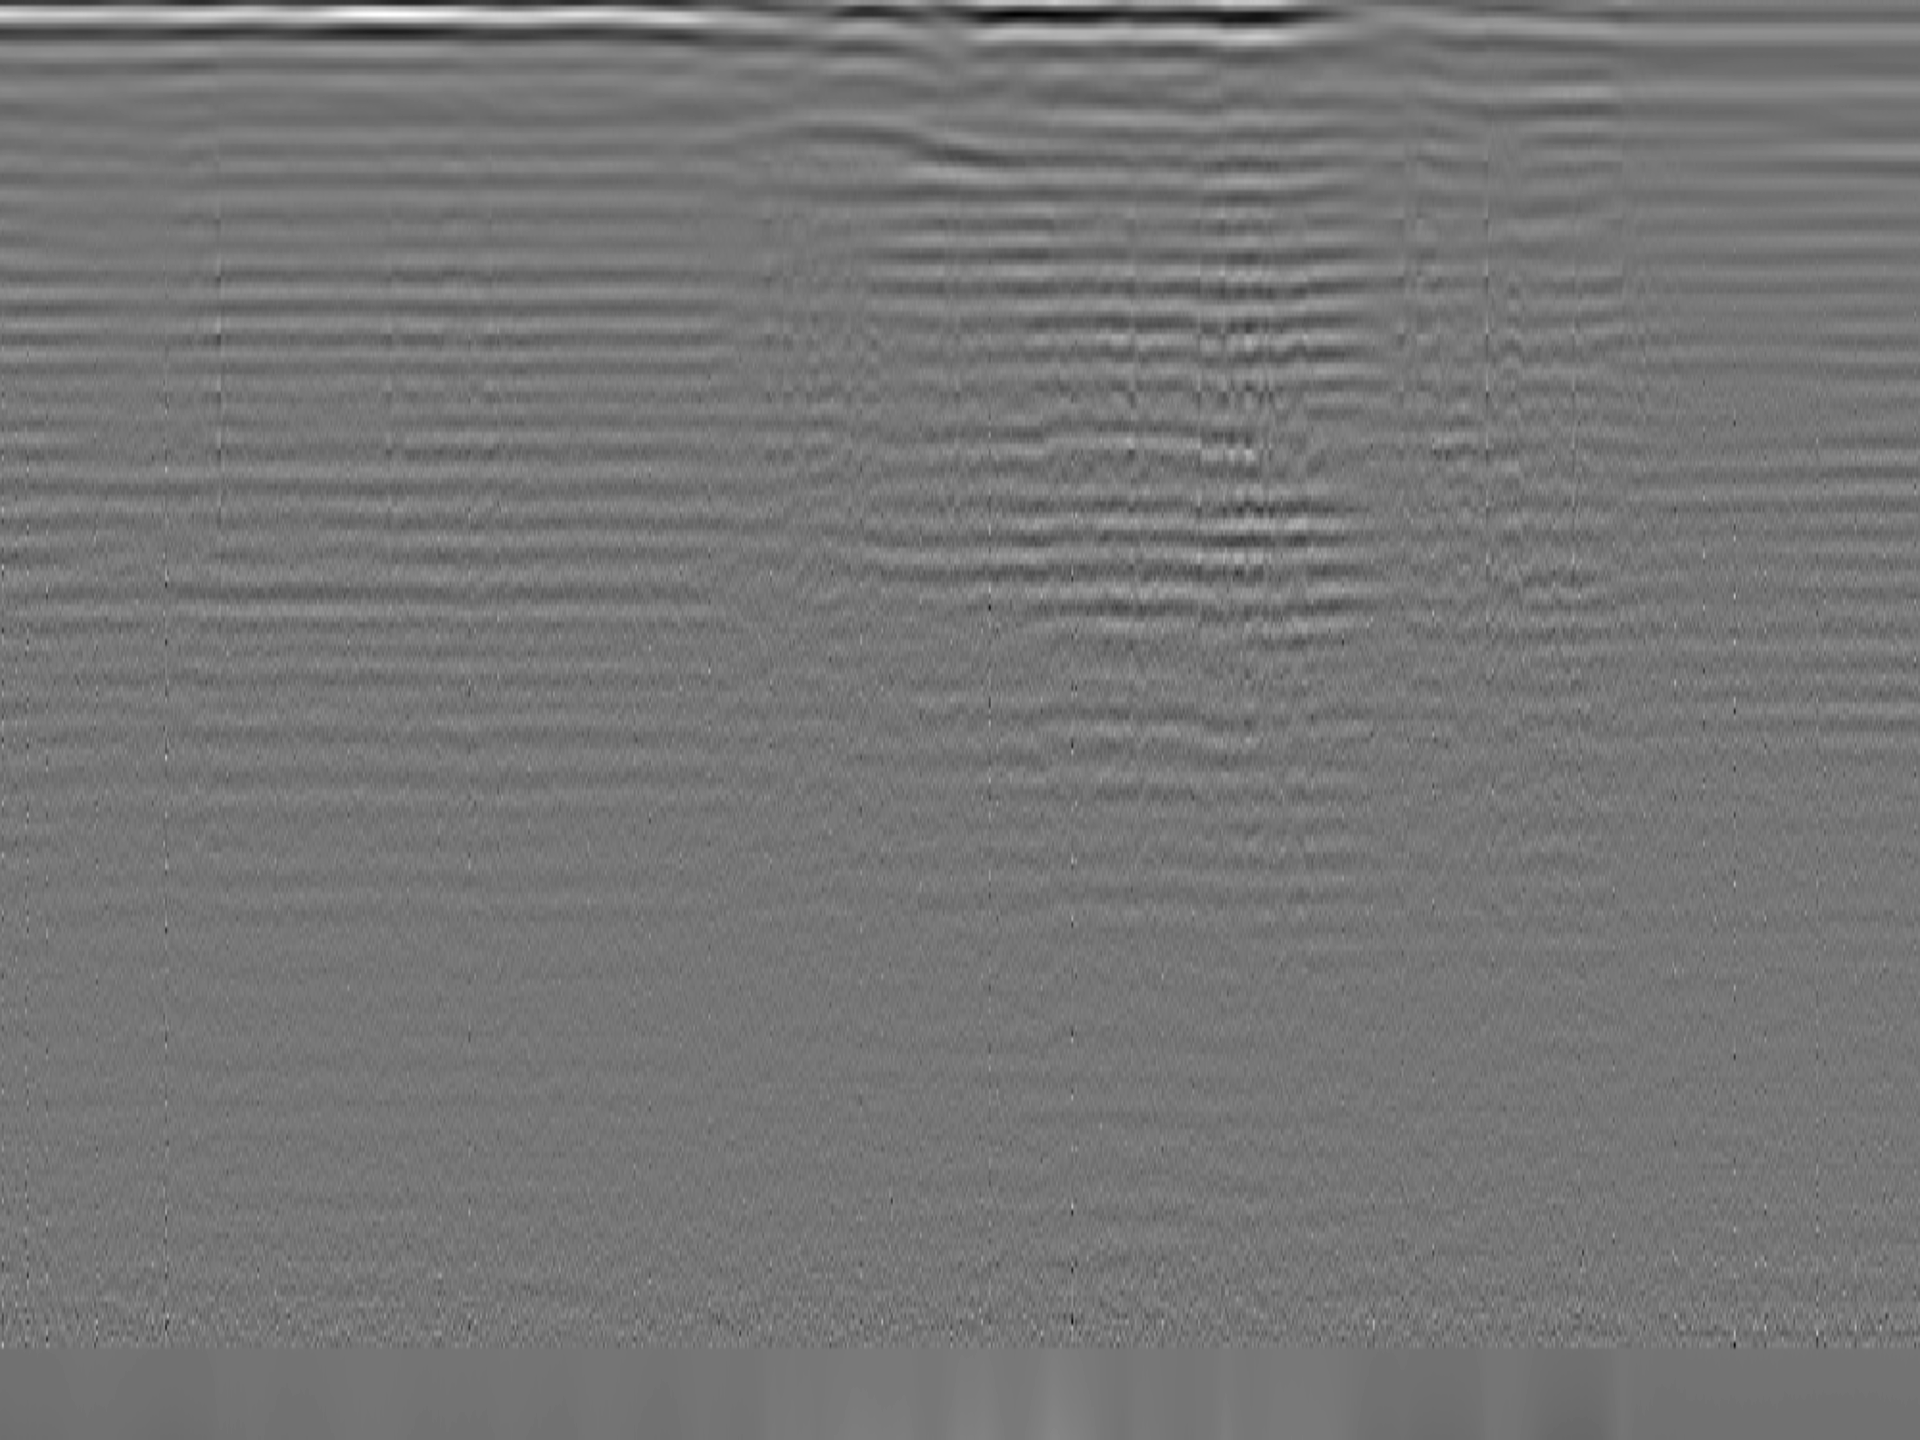Tunnel: (658, 109, 1082, 178)
